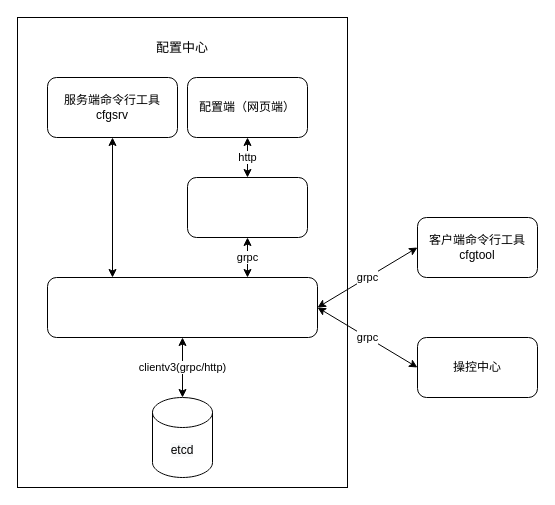
This 555x505 diagram has some shape labels left out. Here are the shapes that lost their labels. From the top down, the centre of each, then its label:
(247,207): envoy
(182,307): 配置服务
